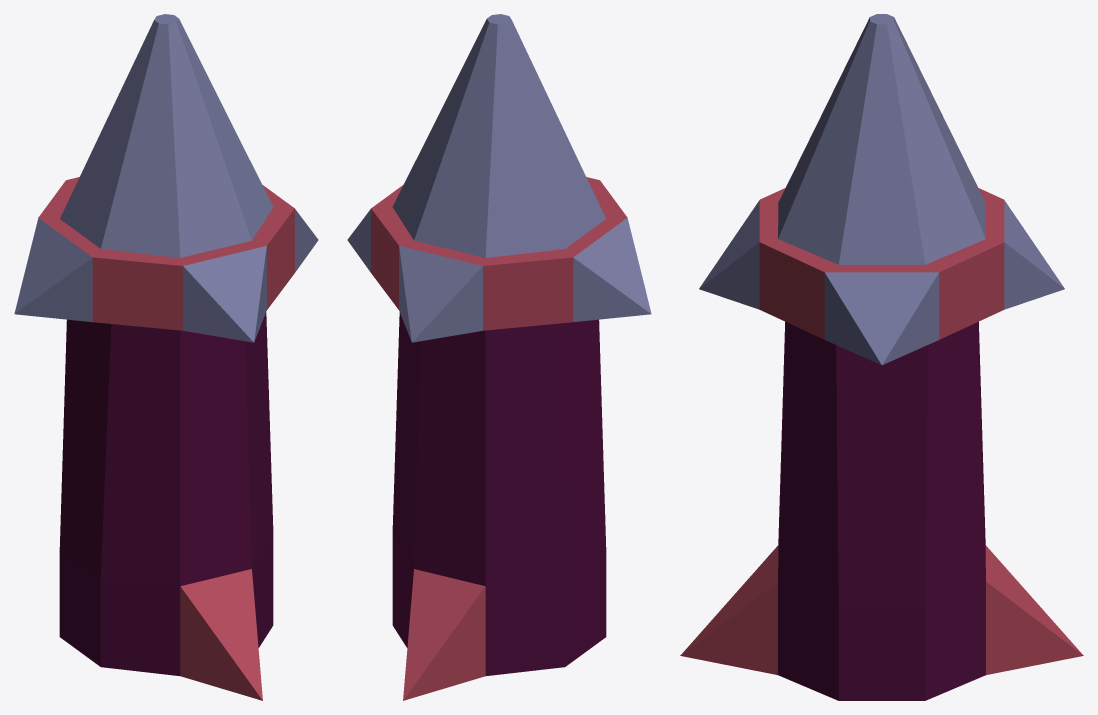
File: Misil.fbx
3 views of the same model, side by side, from view 1: azimuth 30°, elevation 25°; view 2: azimuth 150°, elevation 25°; view 3: azimuth 270°, elevation 25° (orthographic). The views are drawn at different scales.
Parts seen in each view (by area): view 1: Misil; view 2: Misil; view 3: Misil.
Boxes of the visible parts, x1,y1,x2,y2 form: Misil: (14, 14, 318, 700); Misil: (347, 14, 651, 700); Misil: (680, 14, 1083, 700).
Bounding box in the file's own units: 35.73 × 68.63 × 39.36.
